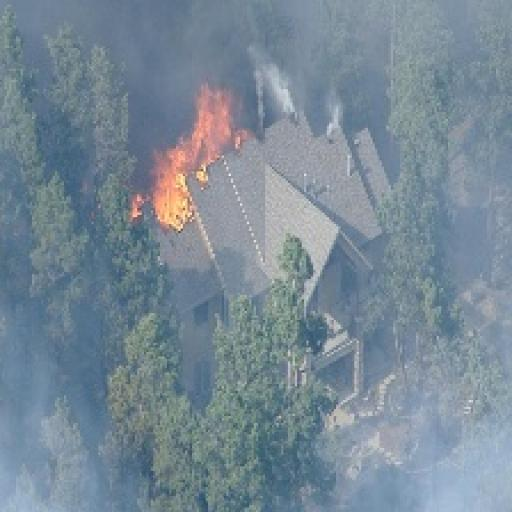fire and smoke: (149, 85, 249, 230), (250, 46, 297, 127)
